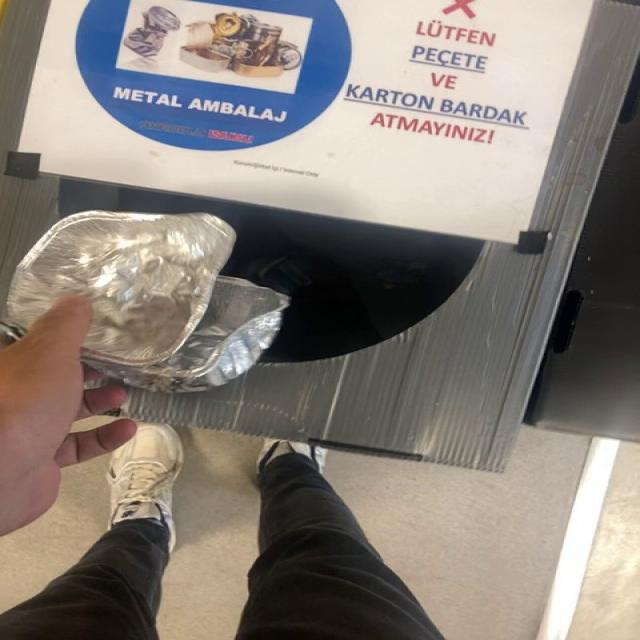metal: (7, 211, 289, 392)
